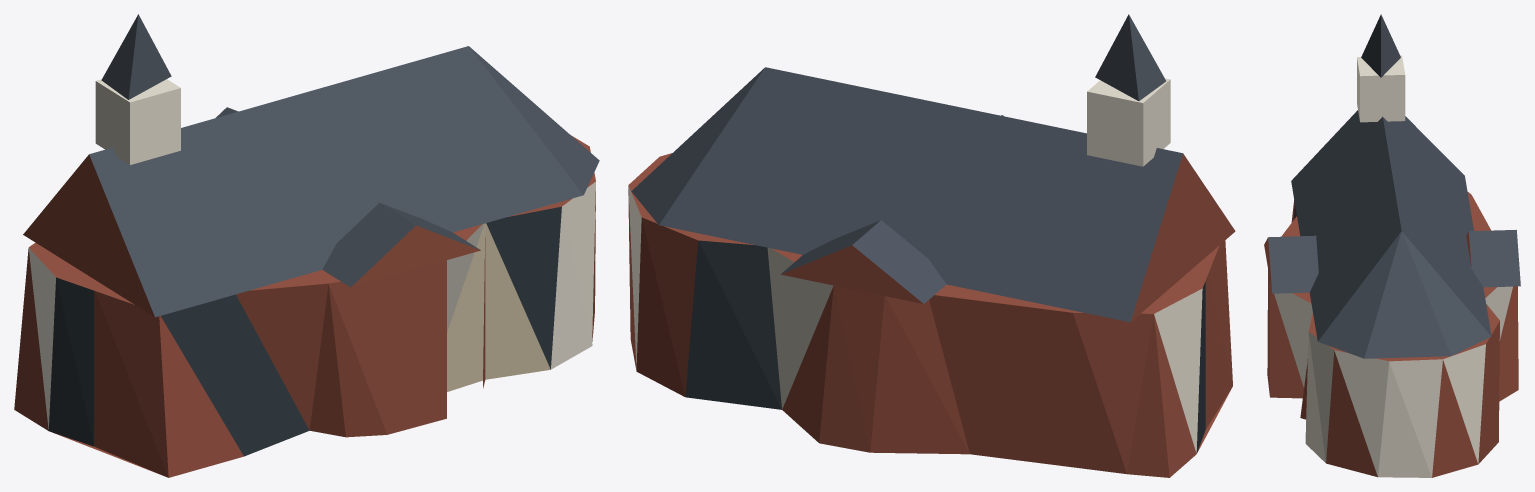
Rendered from buiksloterkerk.lod2.glb.
3 renders of one model, left to right at view 1: azimuth 30°, elevation 25°; view 2: azimuth 150°, elevation 25°; view 3: azimuth 270°, elevation 25°, orthographic. The views are drawn at different scales.
Visible parts, largest first — view 1: lod2; view 2: lod2; view 3: lod2.
Boxes of the visible parts, x1,y1,x2,y2 form: lod2: [14, 14, 599, 477]; lod2: [628, 14, 1235, 477]; lod2: [1264, 14, 1520, 477].
Size of the model in its own units: 32.41 by 23.35 by 18.13.
